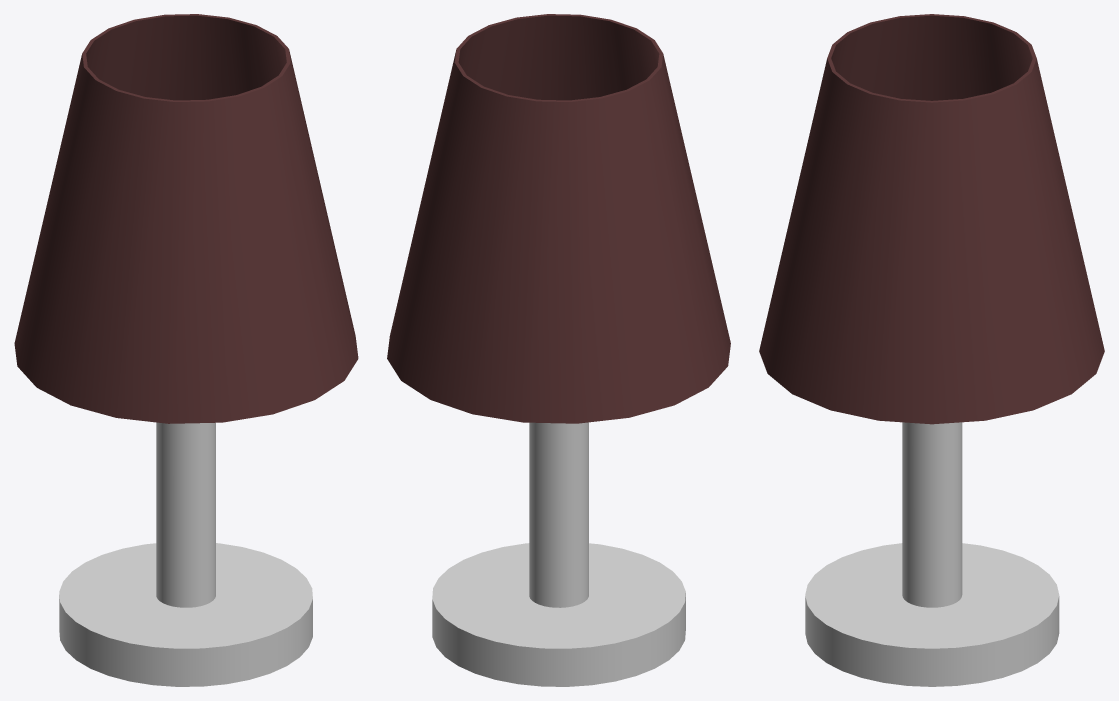
Rendered from LampeChevet2_1.fbx.
3 renders of one model, left to right at view 1: azimuth 30°, elevation 25°; view 2: azimuth 150°, elevation 25°; view 3: azimuth 270°, elevation 25°, orthographic.
Visible parts, largest first — view 1: pPipe109, pCylinder763; view 2: pPipe109, pCylinder763; view 3: pPipe109, pCylinder763.
Boxes of the visible parts, box(x1,y1,x2,y2) form: pPipe109: box(14, 14, 358, 423); pCylinder763: box(59, 422, 312, 686); pPipe109: box(387, 14, 730, 423); pCylinder763: box(432, 422, 685, 686); pPipe109: box(759, 14, 1104, 424); pCylinder763: box(805, 422, 1059, 686).
Size of the model in its own units: 13.33 by 24.46 by 13.33.
